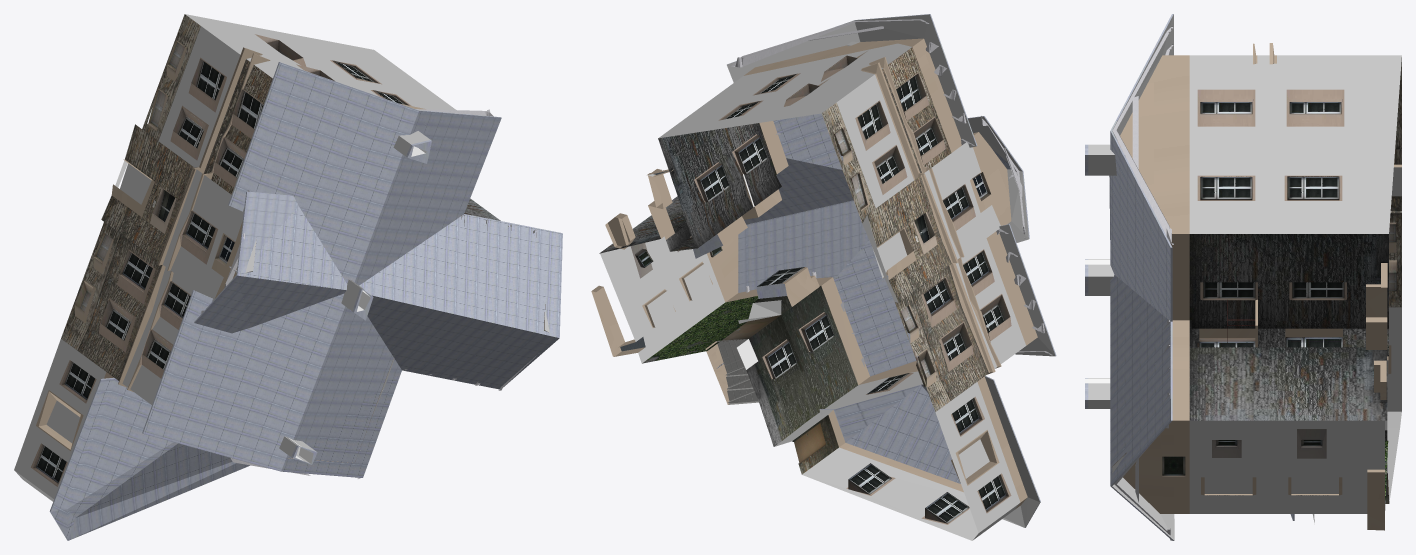
The model's file is Toompuiestee_26-origo.obj.
3 views of the same model, side by side, from view 1: azimuth 30°, elevation 25°; view 2: azimuth 150°, elevation 25°; view 3: azimuth 270°, elevation 25° (orthographic). The views are drawn at different scales.
Visible parts, largest first — view 1: Toompuiestee_26; view 2: Toompuiestee_26; view 3: Toompuiestee_26.
Boxes of the visible parts, bbox=[...] form: Toompuiestee_26: bbox=[14, 14, 562, 540]; Toompuiestee_26: bbox=[591, 14, 1056, 540]; Toompuiestee_26: bbox=[1085, 14, 1401, 540].
Size of the model in its own units: 21.94 by 22 by 12.24.
